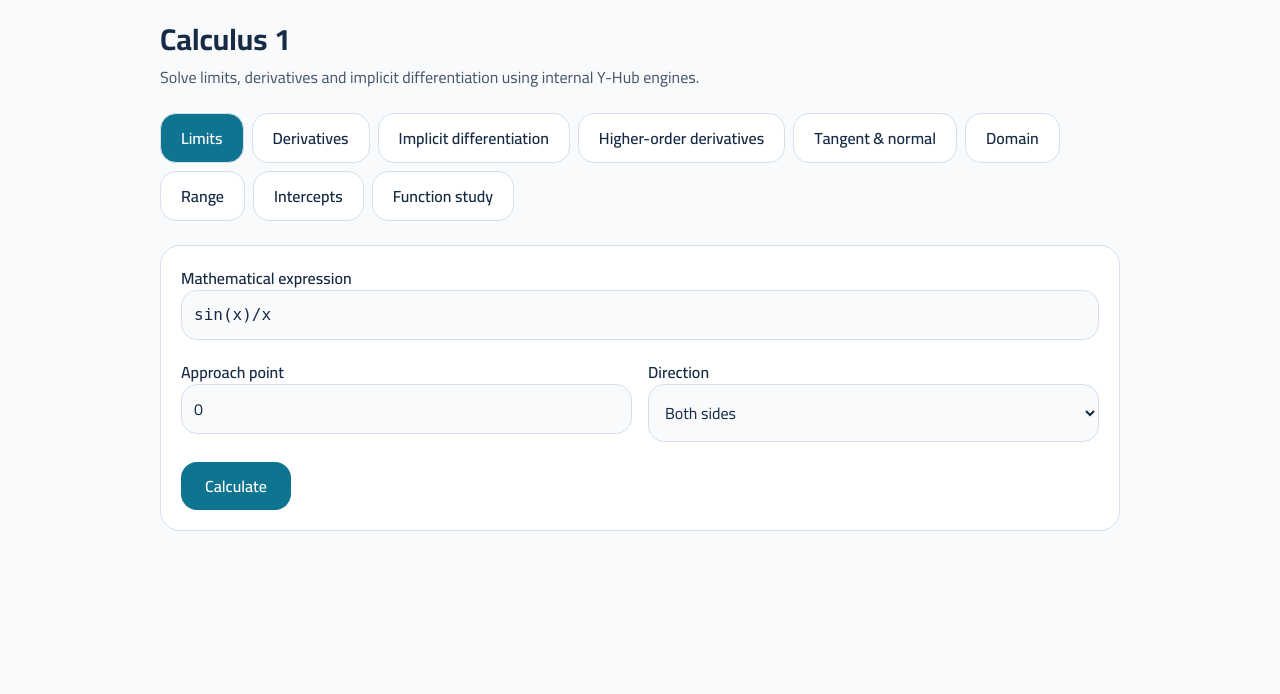
Test: Calculus 1 function study UI › shows an exact proof for irrational cubic roots
Click the tab "Function study" at (443, 196), box [372,171,514,221]
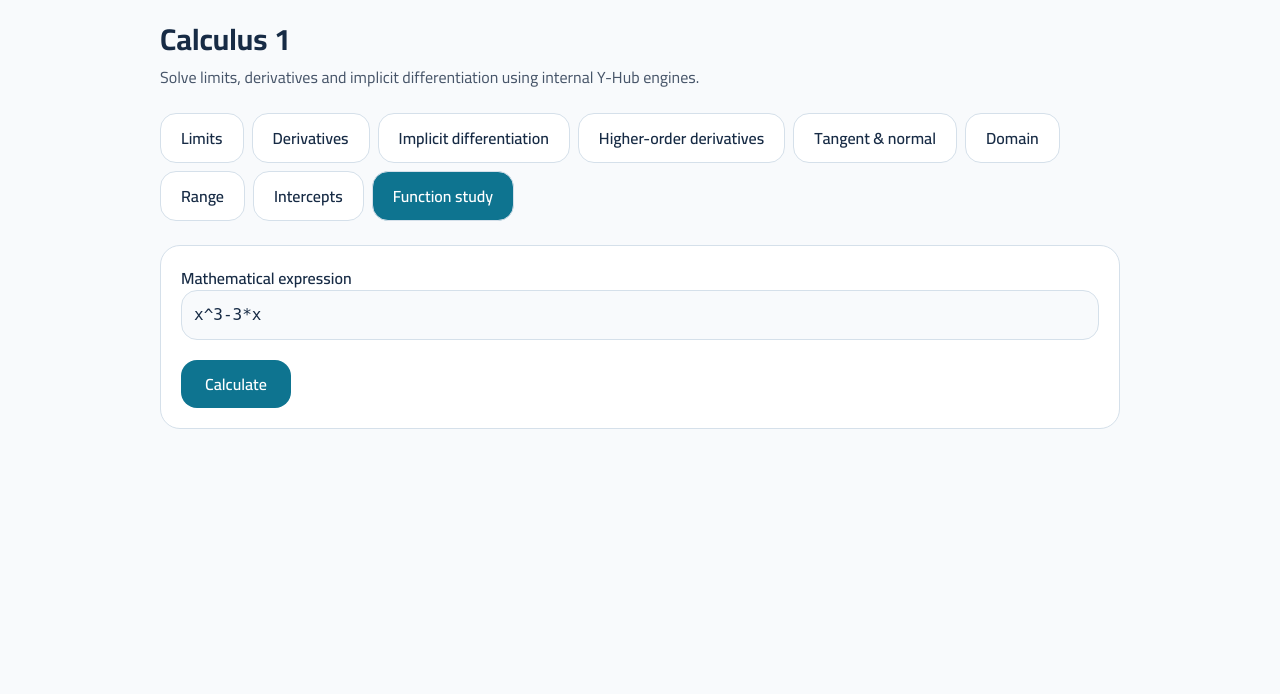
Type "x^3-x" into the field labelled "Mathematical expression" at (640, 315), box [181,290,1099,340]
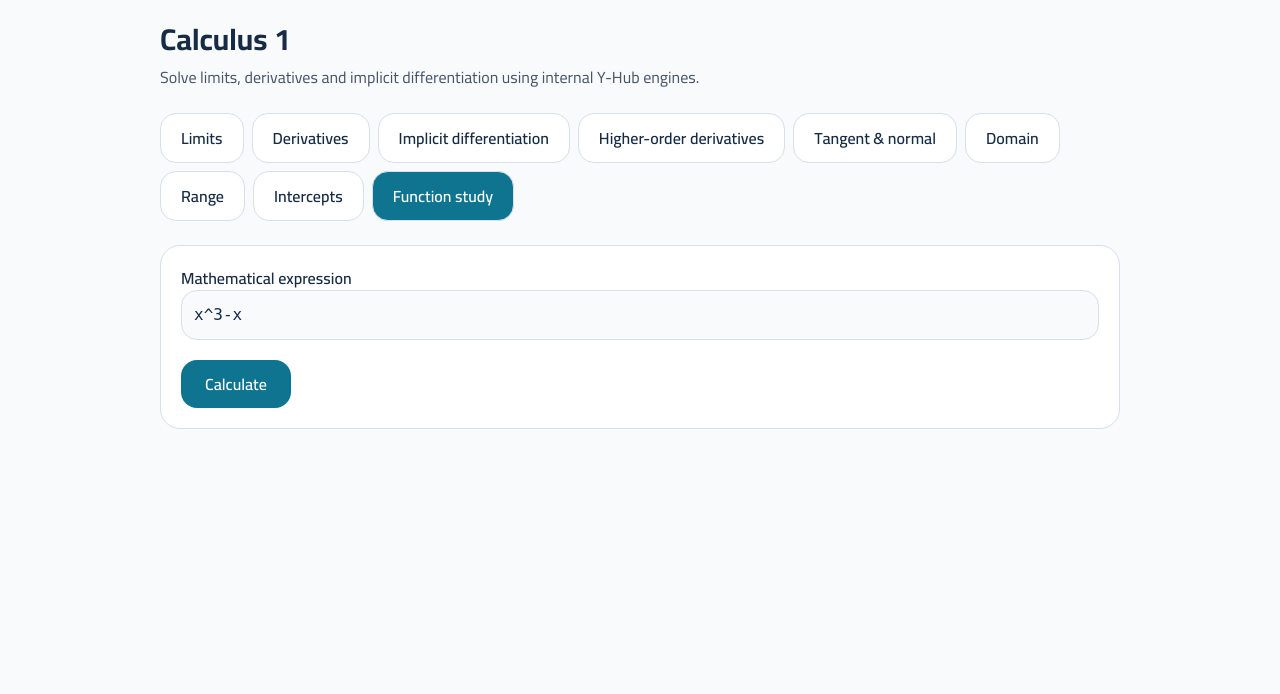
Click the button "Calculate" at (236, 384), box [181,360,291,408]
(page scrolled)
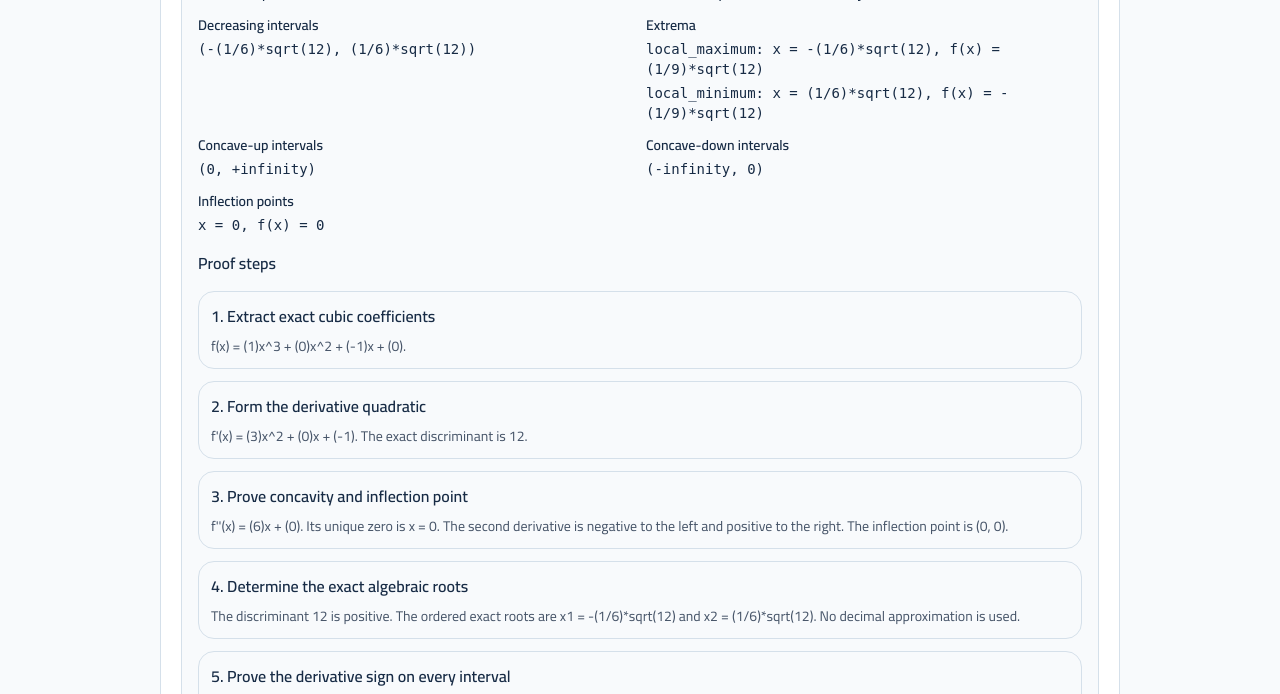
Now the element named "Verified monotonicity proof" shows "local_maximum", box [646,41,1000,77]
Now the element named "Verified monotonicity proof" shows "local_minimum", box [646,85,1008,121]
